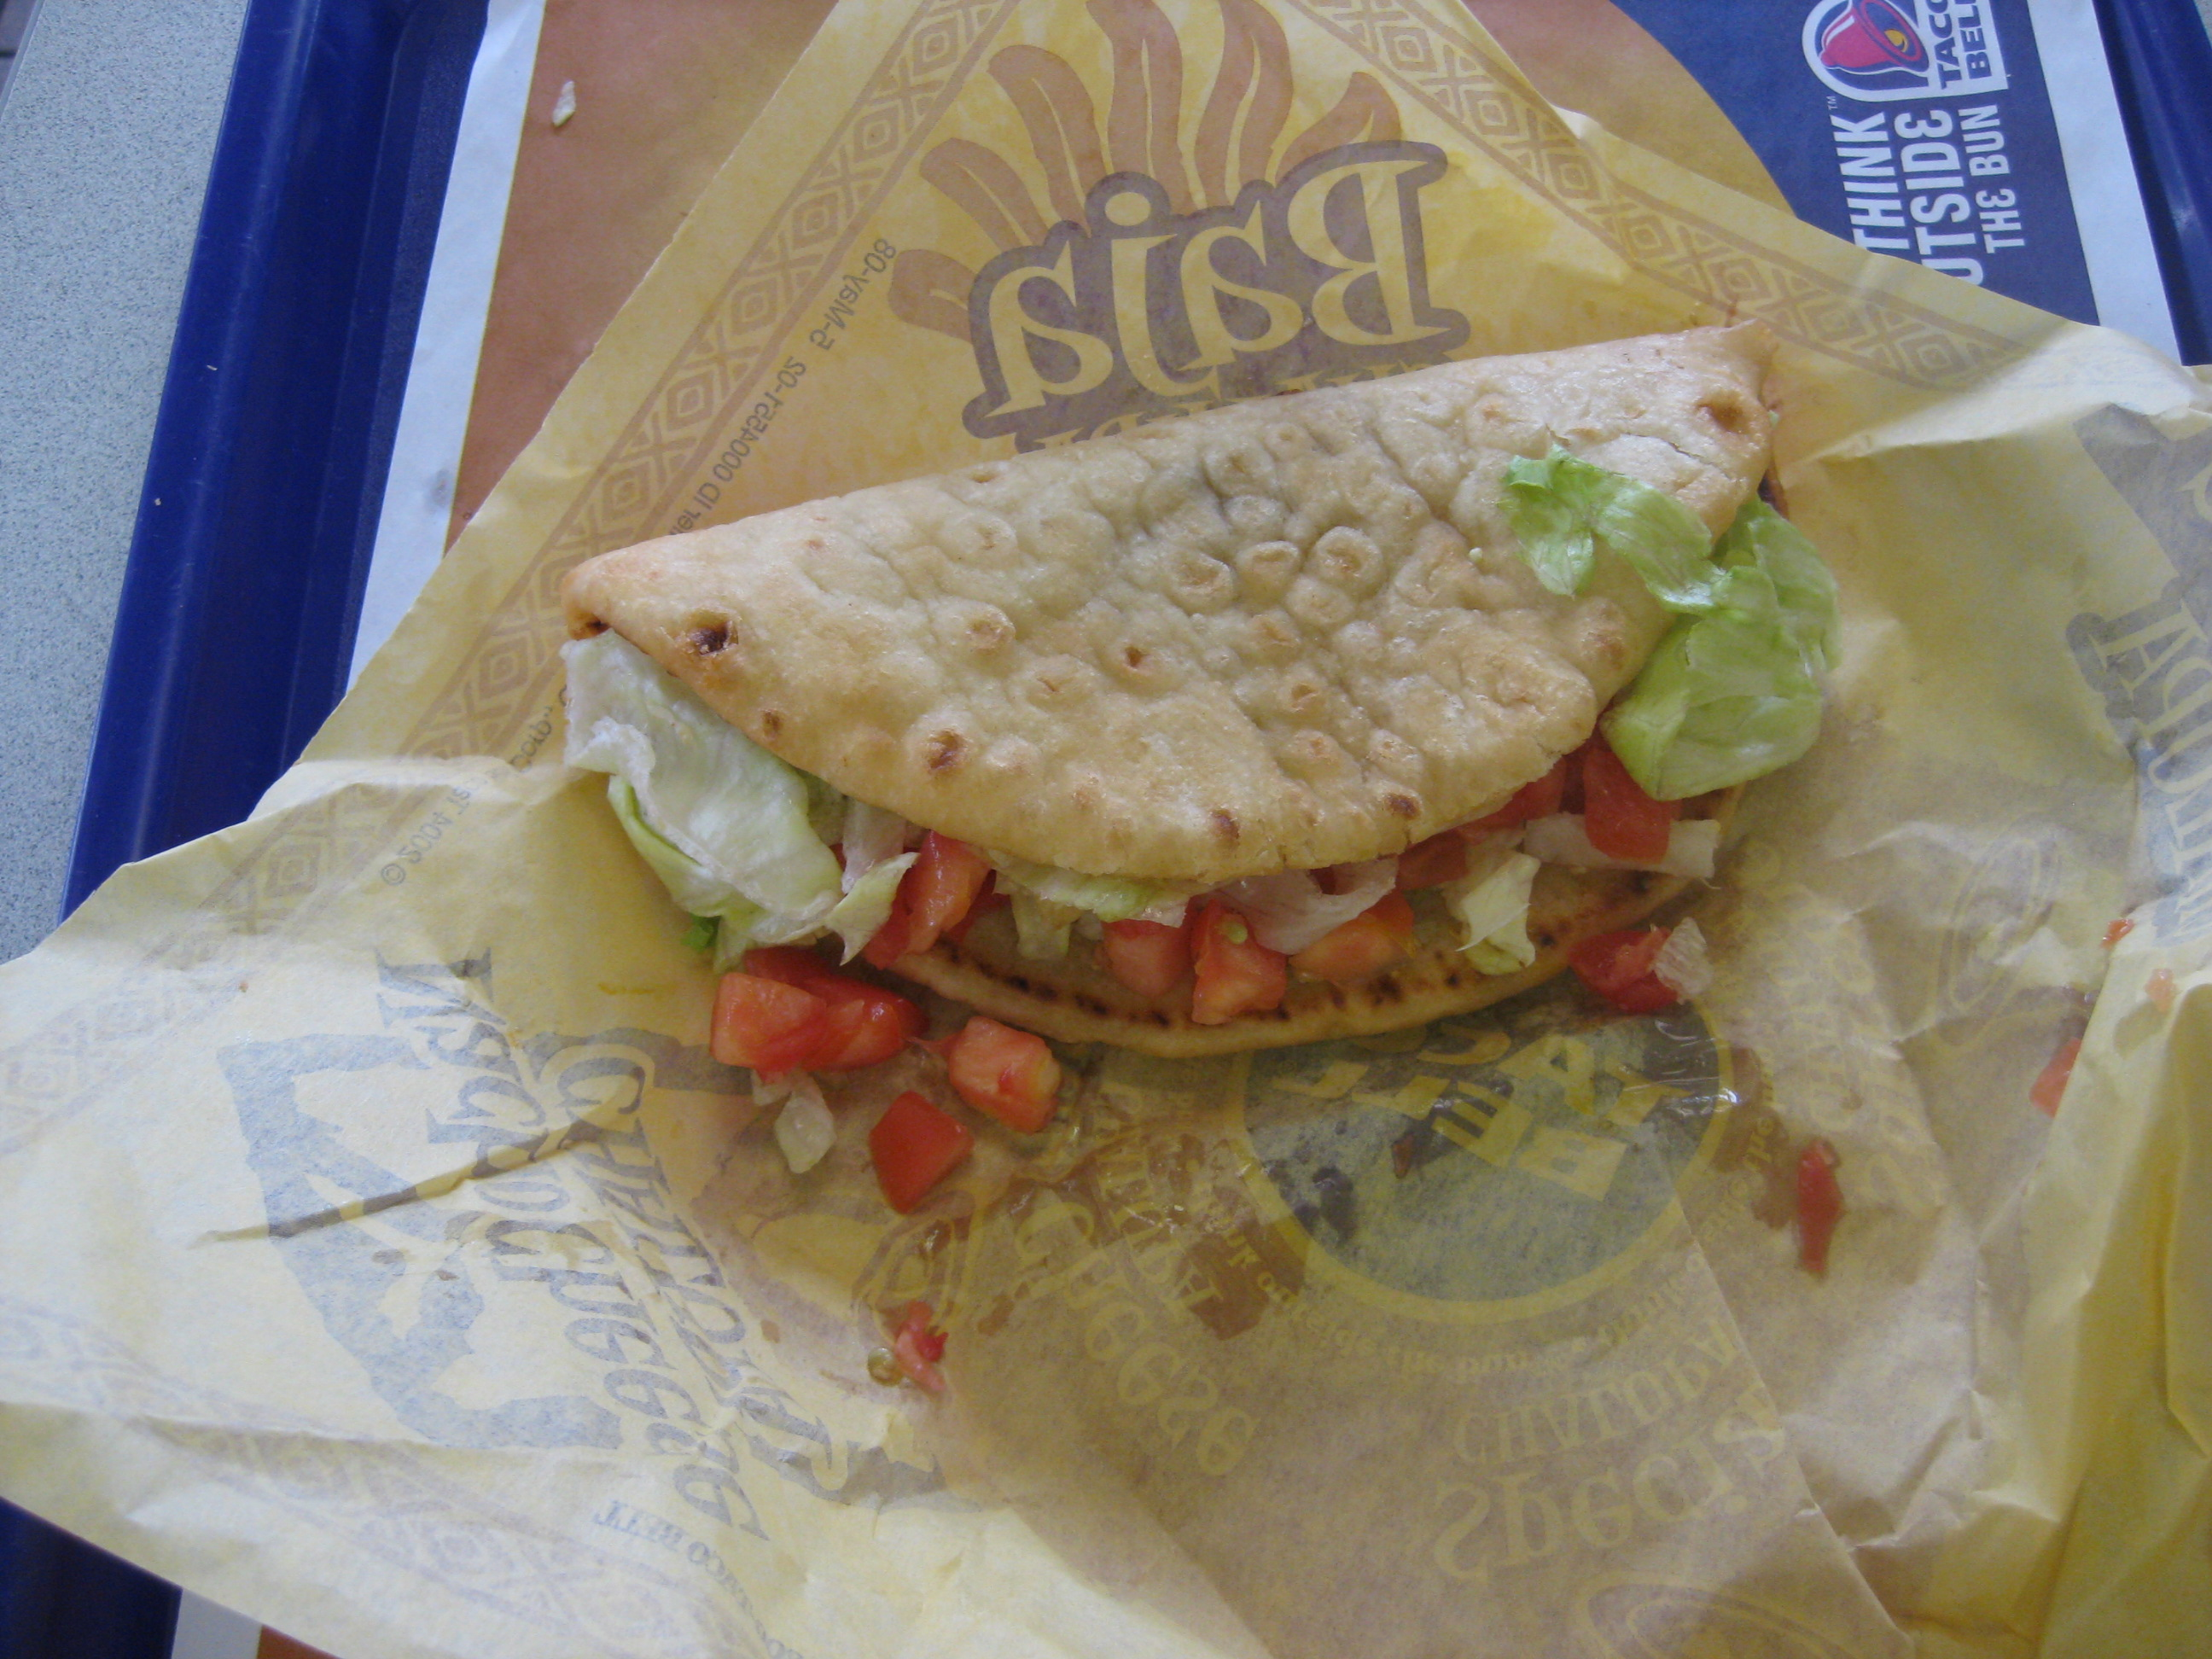taco: (497, 296, 1919, 1103)
